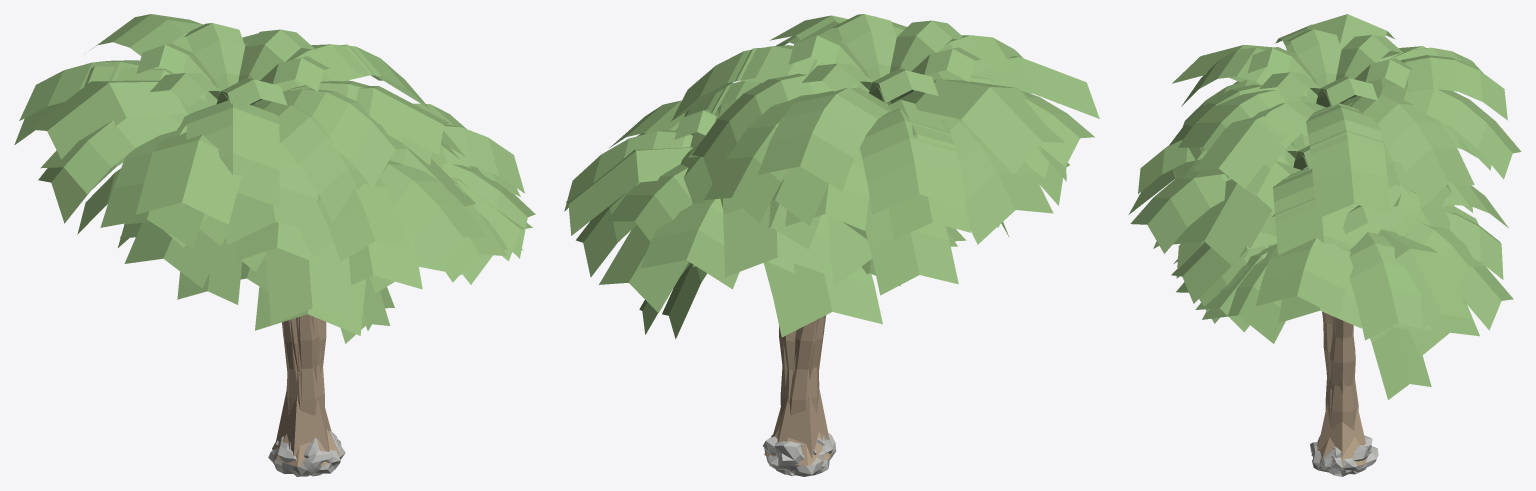
The model's file is jungle.glb.
The picture shows the model from 3 angles, left to right: view 1: azimuth 30°, elevation 25°; view 2: azimuth 150°, elevation 25°; view 3: azimuth 270°, elevation 25°; orthographic projection. The views are drawn at different scales.
Visible parts, largest first — view 1: Palm2, Palm2_far, Palm1, Palm3, Palm1_far, Palm3_far, Rots2, Rots1; view 2: Palm2, Palm3, Palm2_far, Palm1, Palm3_far, Palm1_far, Rots2, Rots1; view 3: Palm2, Palm3, Palm1, Palm3_far, Palm2_far, Palm1_far, Rots2, Rots1.
Boxes of the visible parts, box(x1,y1,x2,y2) form: Palm2: box(19, 14, 431, 466); Palm2_far: box(14, 44, 448, 455); Palm1: box(77, 80, 487, 413); Palm3: box(118, 103, 535, 415); Palm1_far: box(124, 142, 479, 383); Palm3_far: box(242, 178, 532, 373); Rots2: box(274, 438, 341, 476); Rots1: box(268, 431, 345, 475); Palm2: box(671, 14, 1094, 465); Palm3: box(564, 100, 966, 417); Palm2_far: box(672, 15, 1099, 458); Palm1: box(676, 81, 1069, 295); Palm3_far: box(566, 147, 953, 385); Palm1_far: box(690, 83, 1049, 249); Rots2: box(764, 433, 836, 471); Rots1: box(763, 436, 833, 476); Palm2: box(1169, 24, 1521, 467); Palm3: box(1153, 166, 1508, 430); Palm1: box(1130, 120, 1478, 422); Palm3_far: box(1171, 206, 1513, 397); Palm2_far: box(1172, 14, 1491, 456); Palm1_far: box(1128, 161, 1472, 392); Rots2: box(1310, 435, 1378, 472); Rots1: box(1319, 445, 1368, 476).
Size of the model in its own units: 8.79 by 7.78 by 7.33.
